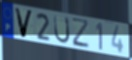1: (95, 22, 103, 51)
2: (35, 12, 52, 42)
4: (111, 24, 126, 55)
U: (53, 14, 71, 45)
V: (13, 6, 35, 39)
Z: (71, 17, 91, 50)
